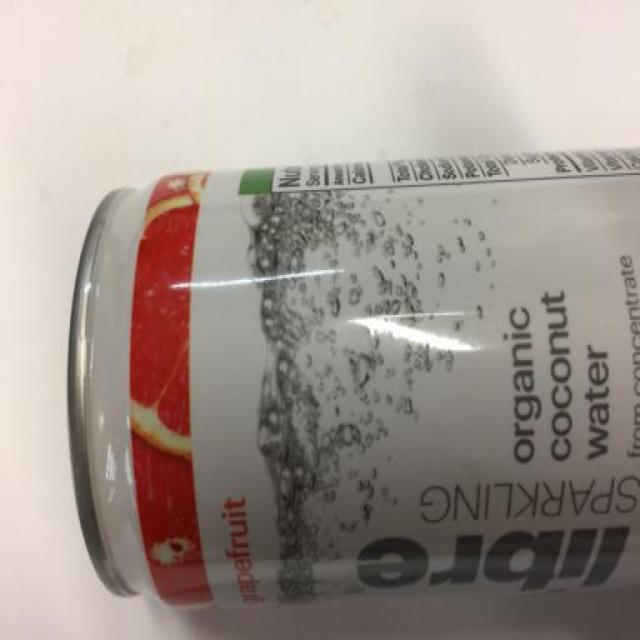metel: (60, 141, 640, 640)
